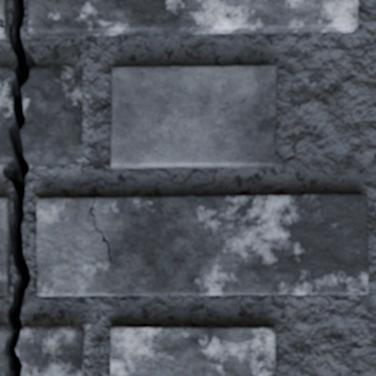brick: (37, 194, 367, 295), (111, 65, 275, 167), (28, 0, 357, 36), (110, 327, 275, 375), (0, 198, 8, 294), (0, 0, 4, 23)
broken_brick: (22, 65, 82, 166), (17, 325, 85, 375), (0, 64, 13, 165), (0, 325, 9, 375)
crack: (2, 0, 36, 375), (88, 197, 112, 262), (0, 17, 6, 35)
